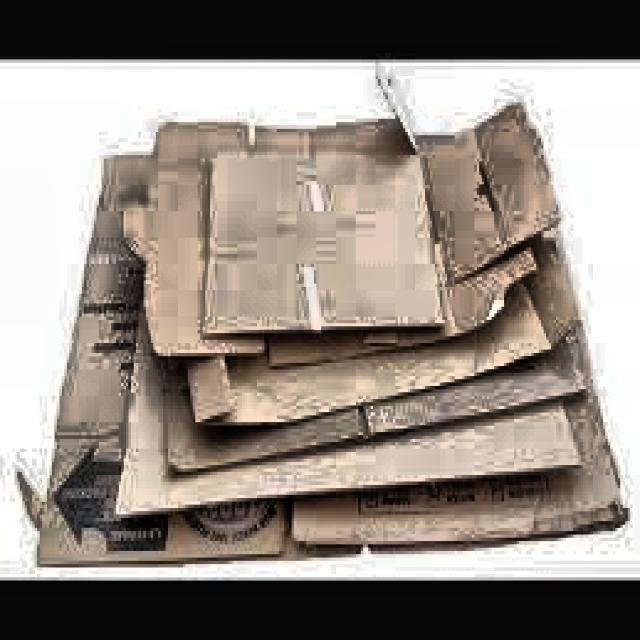cardboard: (20, 89, 628, 564)
